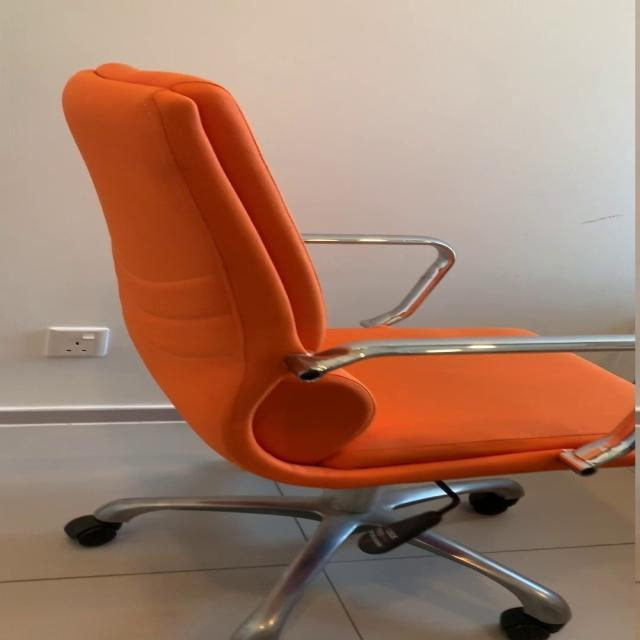chair: (55, 60, 640, 640)
